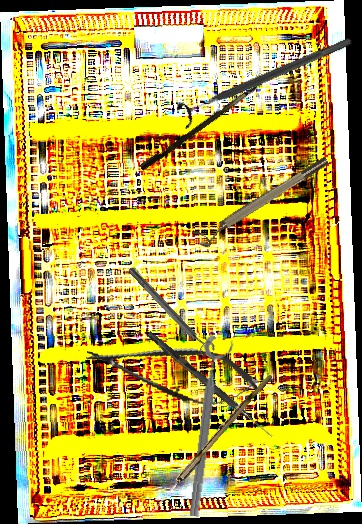Fixation Ring: (174, 27, 358, 131), (192, 153, 335, 251), (183, 335, 236, 519), (124, 262, 217, 360)
Hook Surgical: (139, 56, 290, 174), (145, 331, 276, 439)
Micro Scissor: (81, 328, 263, 416)
Surgical Spoon: (144, 371, 273, 522)
